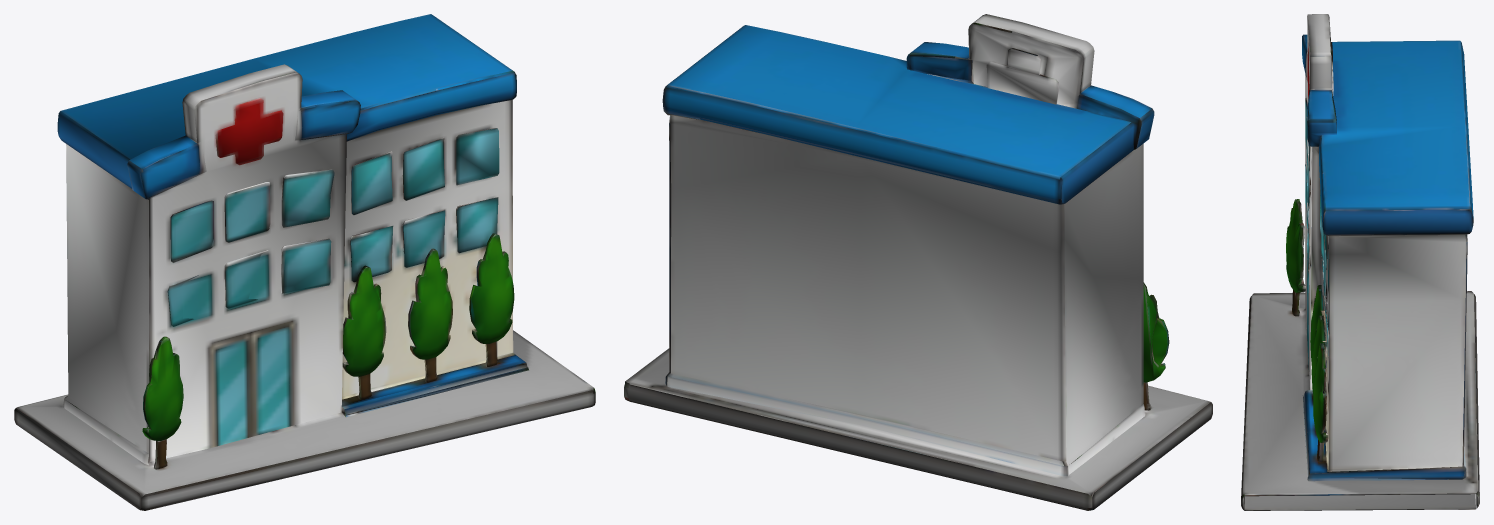
Rendered from rumah_sakit_1.glb.
3 views of the same model, side by side, from view 1: azimuth 30°, elevation 25°; view 2: azimuth 150°, elevation 25°; view 3: azimuth 270°, elevation 25° (orthographic). The views are drawn at different scales.
Parts seen in each view (by area): view 1: tripo_node_5d82a574; view 2: tripo_node_5d82a574; view 3: tripo_node_5d82a574.
Part boxes in pixels (bbox=[...]): tripo_node_5d82a574: bbox=[14, 14, 595, 510]; tripo_node_5d82a574: bbox=[624, 14, 1212, 510]; tripo_node_5d82a574: bbox=[1241, 14, 1479, 510].
Bounding box in the file's own units: 91.49 × 71.26 × 45.38.
1 material, 1 textured.
